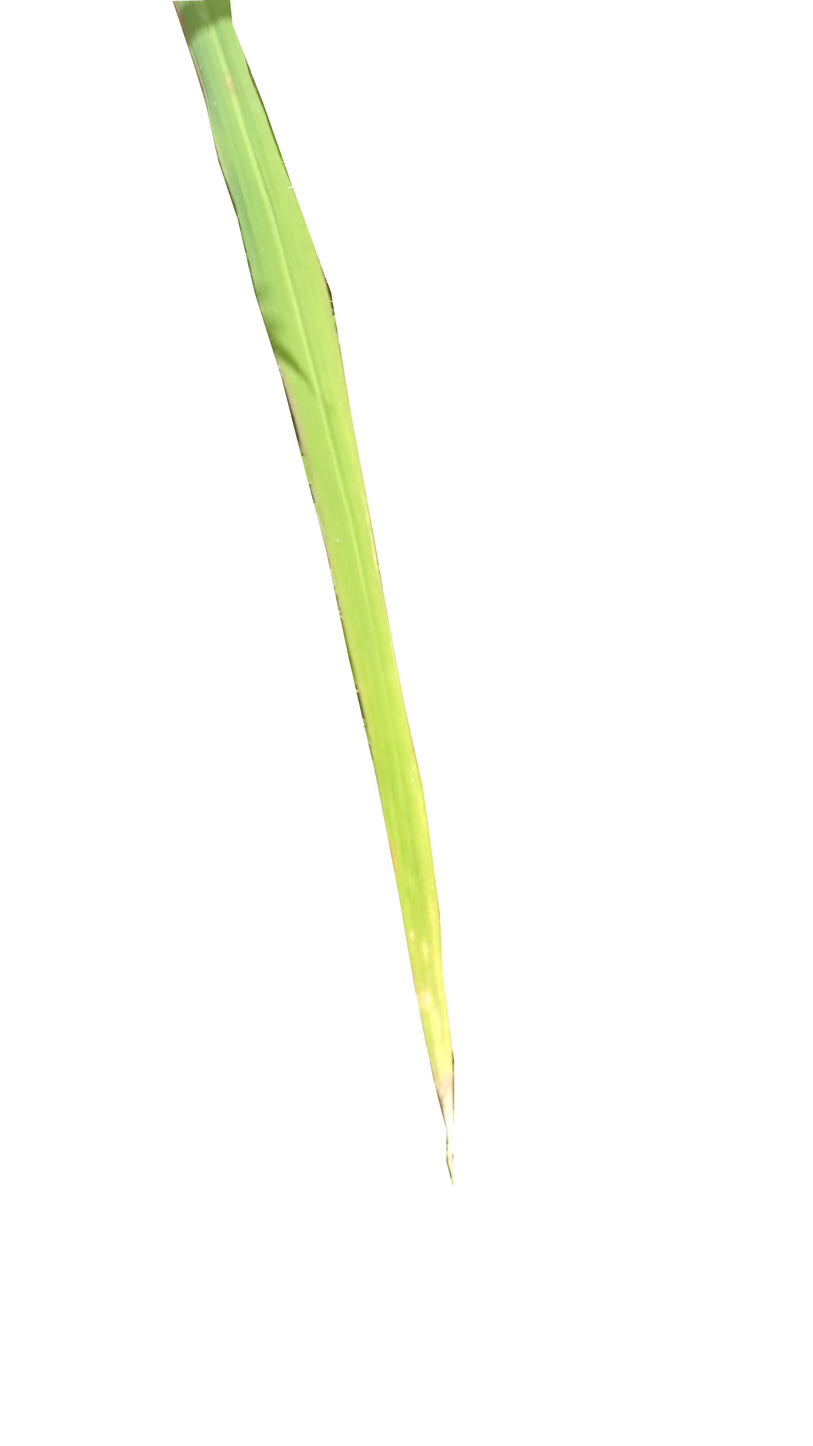Tungro: (231, 162, 453, 1141)
